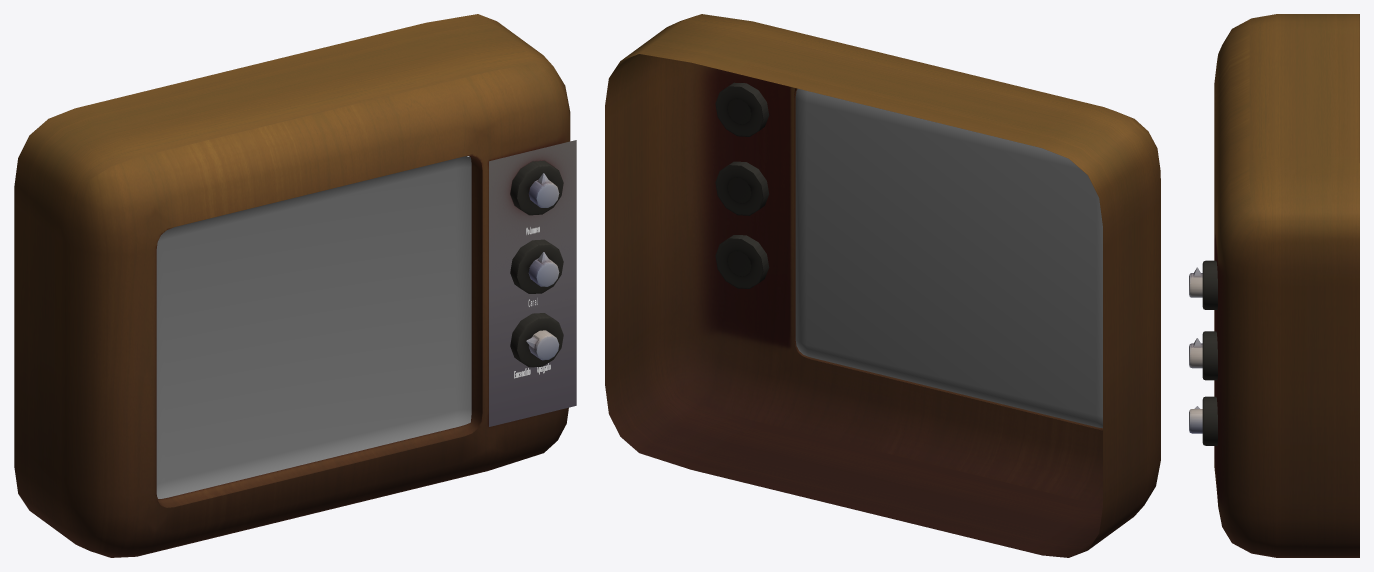
The model's file is Tele.fbx.
The picture shows the model from 3 angles, left to right: view 1: azimuth 30°, elevation 25°; view 2: azimuth 150°, elevation 25°; view 3: azimuth 270°, elevation 25°; orthographic projection. The views are drawn at different scales.
Visible parts, largest first — view 1: Tele, Pantalla, Palanquia_02, Palanquita_03, Palanquita_01; view 2: Tele, Pantalla; view 3: Tele, Palanquita_03, Palanquia_02, Palanquita_01.
Part boxes in pixels (bbox=[...]): Tele: bbox=[14, 14, 576, 557]; Pantalla: bbox=[156, 156, 471, 498]; Palanquia_02: bbox=[528, 173, 559, 207]; Palanquita_03: bbox=[528, 252, 559, 286]; Palanquita_01: bbox=[526, 330, 559, 360]; Tele: bbox=[605, 14, 1160, 557]; Pantalla: bbox=[795, 88, 1102, 428]; Tele: bbox=[1202, 14, 1359, 557]; Palanquita_03: bbox=[1189, 338, 1202, 368]; Palanquia_02: bbox=[1189, 267, 1202, 297]; Palanquita_01: bbox=[1189, 406, 1202, 433].
Size of the model in its own units: 49.18 by 16.34 by 38.43.
Materials: 2 (1 with a texture image).
